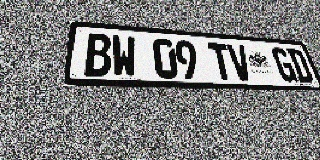0: (152, 38, 179, 79)
9: (174, 40, 201, 80)
B: (84, 33, 111, 77)
D: (286, 48, 315, 83)
G: (270, 47, 299, 82)
T: (207, 42, 235, 81)
V: (226, 44, 254, 81)
W: (112, 35, 137, 78)
